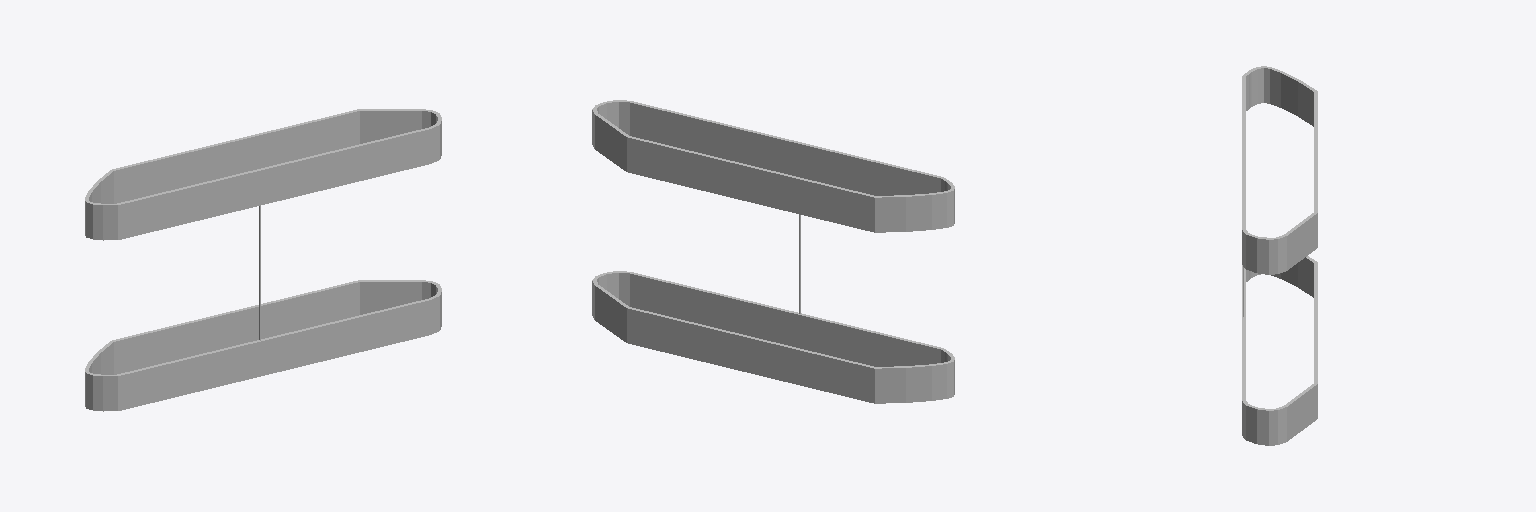
File: Tracks.obj
3 views of the same model, side by side, from view 1: azimuth 30°, elevation 25°; view 2: azimuth 150°, elevation 25°; view 3: azimuth 270°, elevation 25° (orthographic).
Parts seen in each view (by area): view 1: Tracks; view 2: Tracks; view 3: Tracks.
Boxes of the visible parts, <box> form: Tracks: <box>85,109,441,411</box>; Tracks: <box>592,100,954,403</box>; Tracks: <box>1242,66,1317,445</box>.
Bounding box in the file's own units: 85.01 × 47 × 15.84.